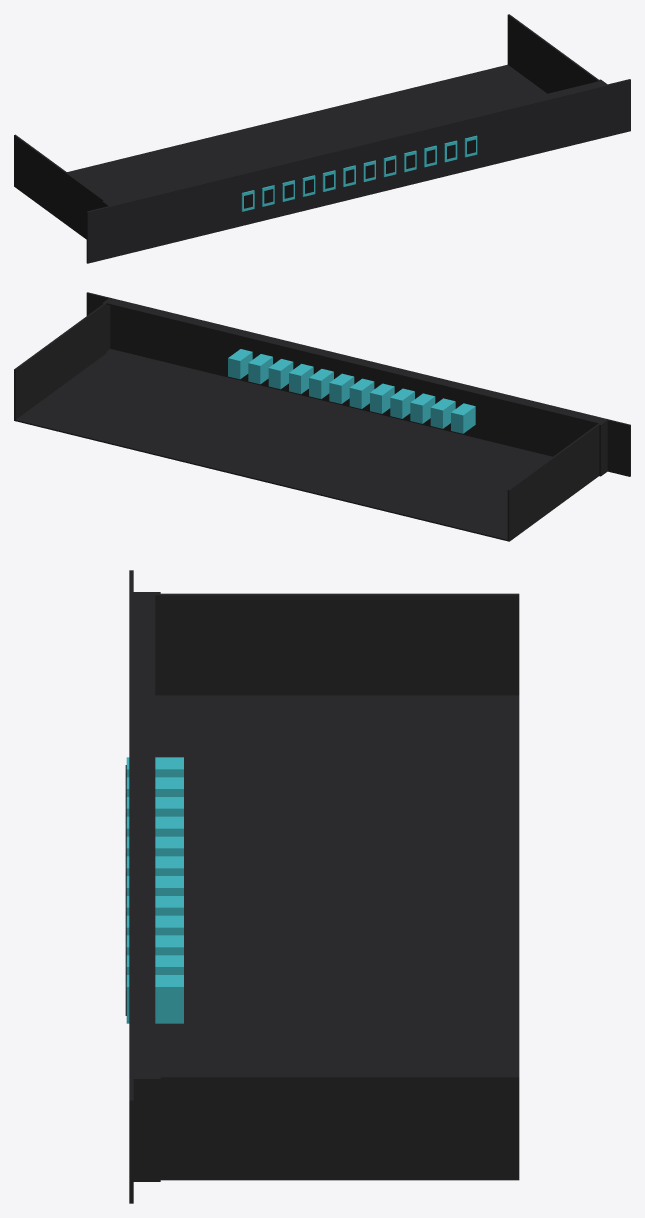
The model's file is FP-LC-12-V.far.glb.
The picture shows the model from 3 angles, top to bottom: view 1: azimuth 30°, elevation 25°; view 2: azimuth 150°, elevation 25°; view 3: azimuth 270°, elevation 25°; orthographic projection. The views are drawn at different scales.
Parts seen in each view (by area): view 1: FP-LC-12-V_Body_far; view 2: FP-LC-12-V_Body_far; view 3: FP-LC-12-V_Body_far.
Part boxes in pixels (<box>): FP-LC-12-V_Body_far: <box>14,14,630,263</box>; FP-LC-12-V_Body_far: <box>14,292,630,541</box>; FP-LC-12-V_Body_far: <box>125,570,519,1203</box>.
Size of the model in its own units: 0.4826 by 0.0437 by 0.1515.
Materials: 1 (1 with a texture image).
